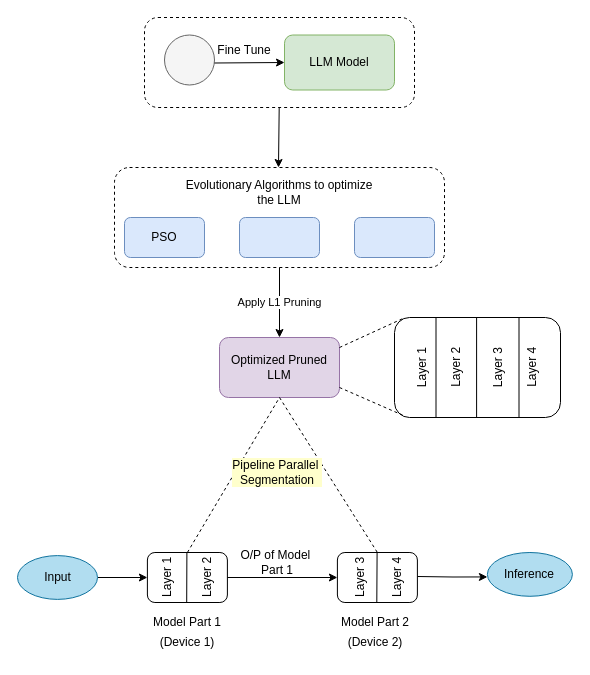
This 590x675 diagram has some shape labels left out. Each missing label, with the centre of its shape:
Dataset: pixel 189 59
GA: pixel 279 237
Hybrid: pixel 394 237
